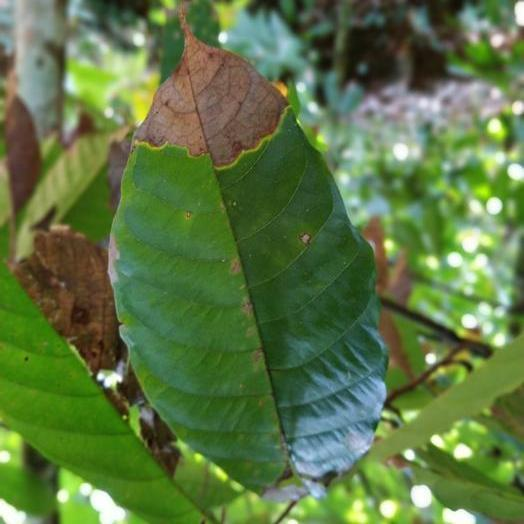Potassium: (110, 20, 386, 496)
